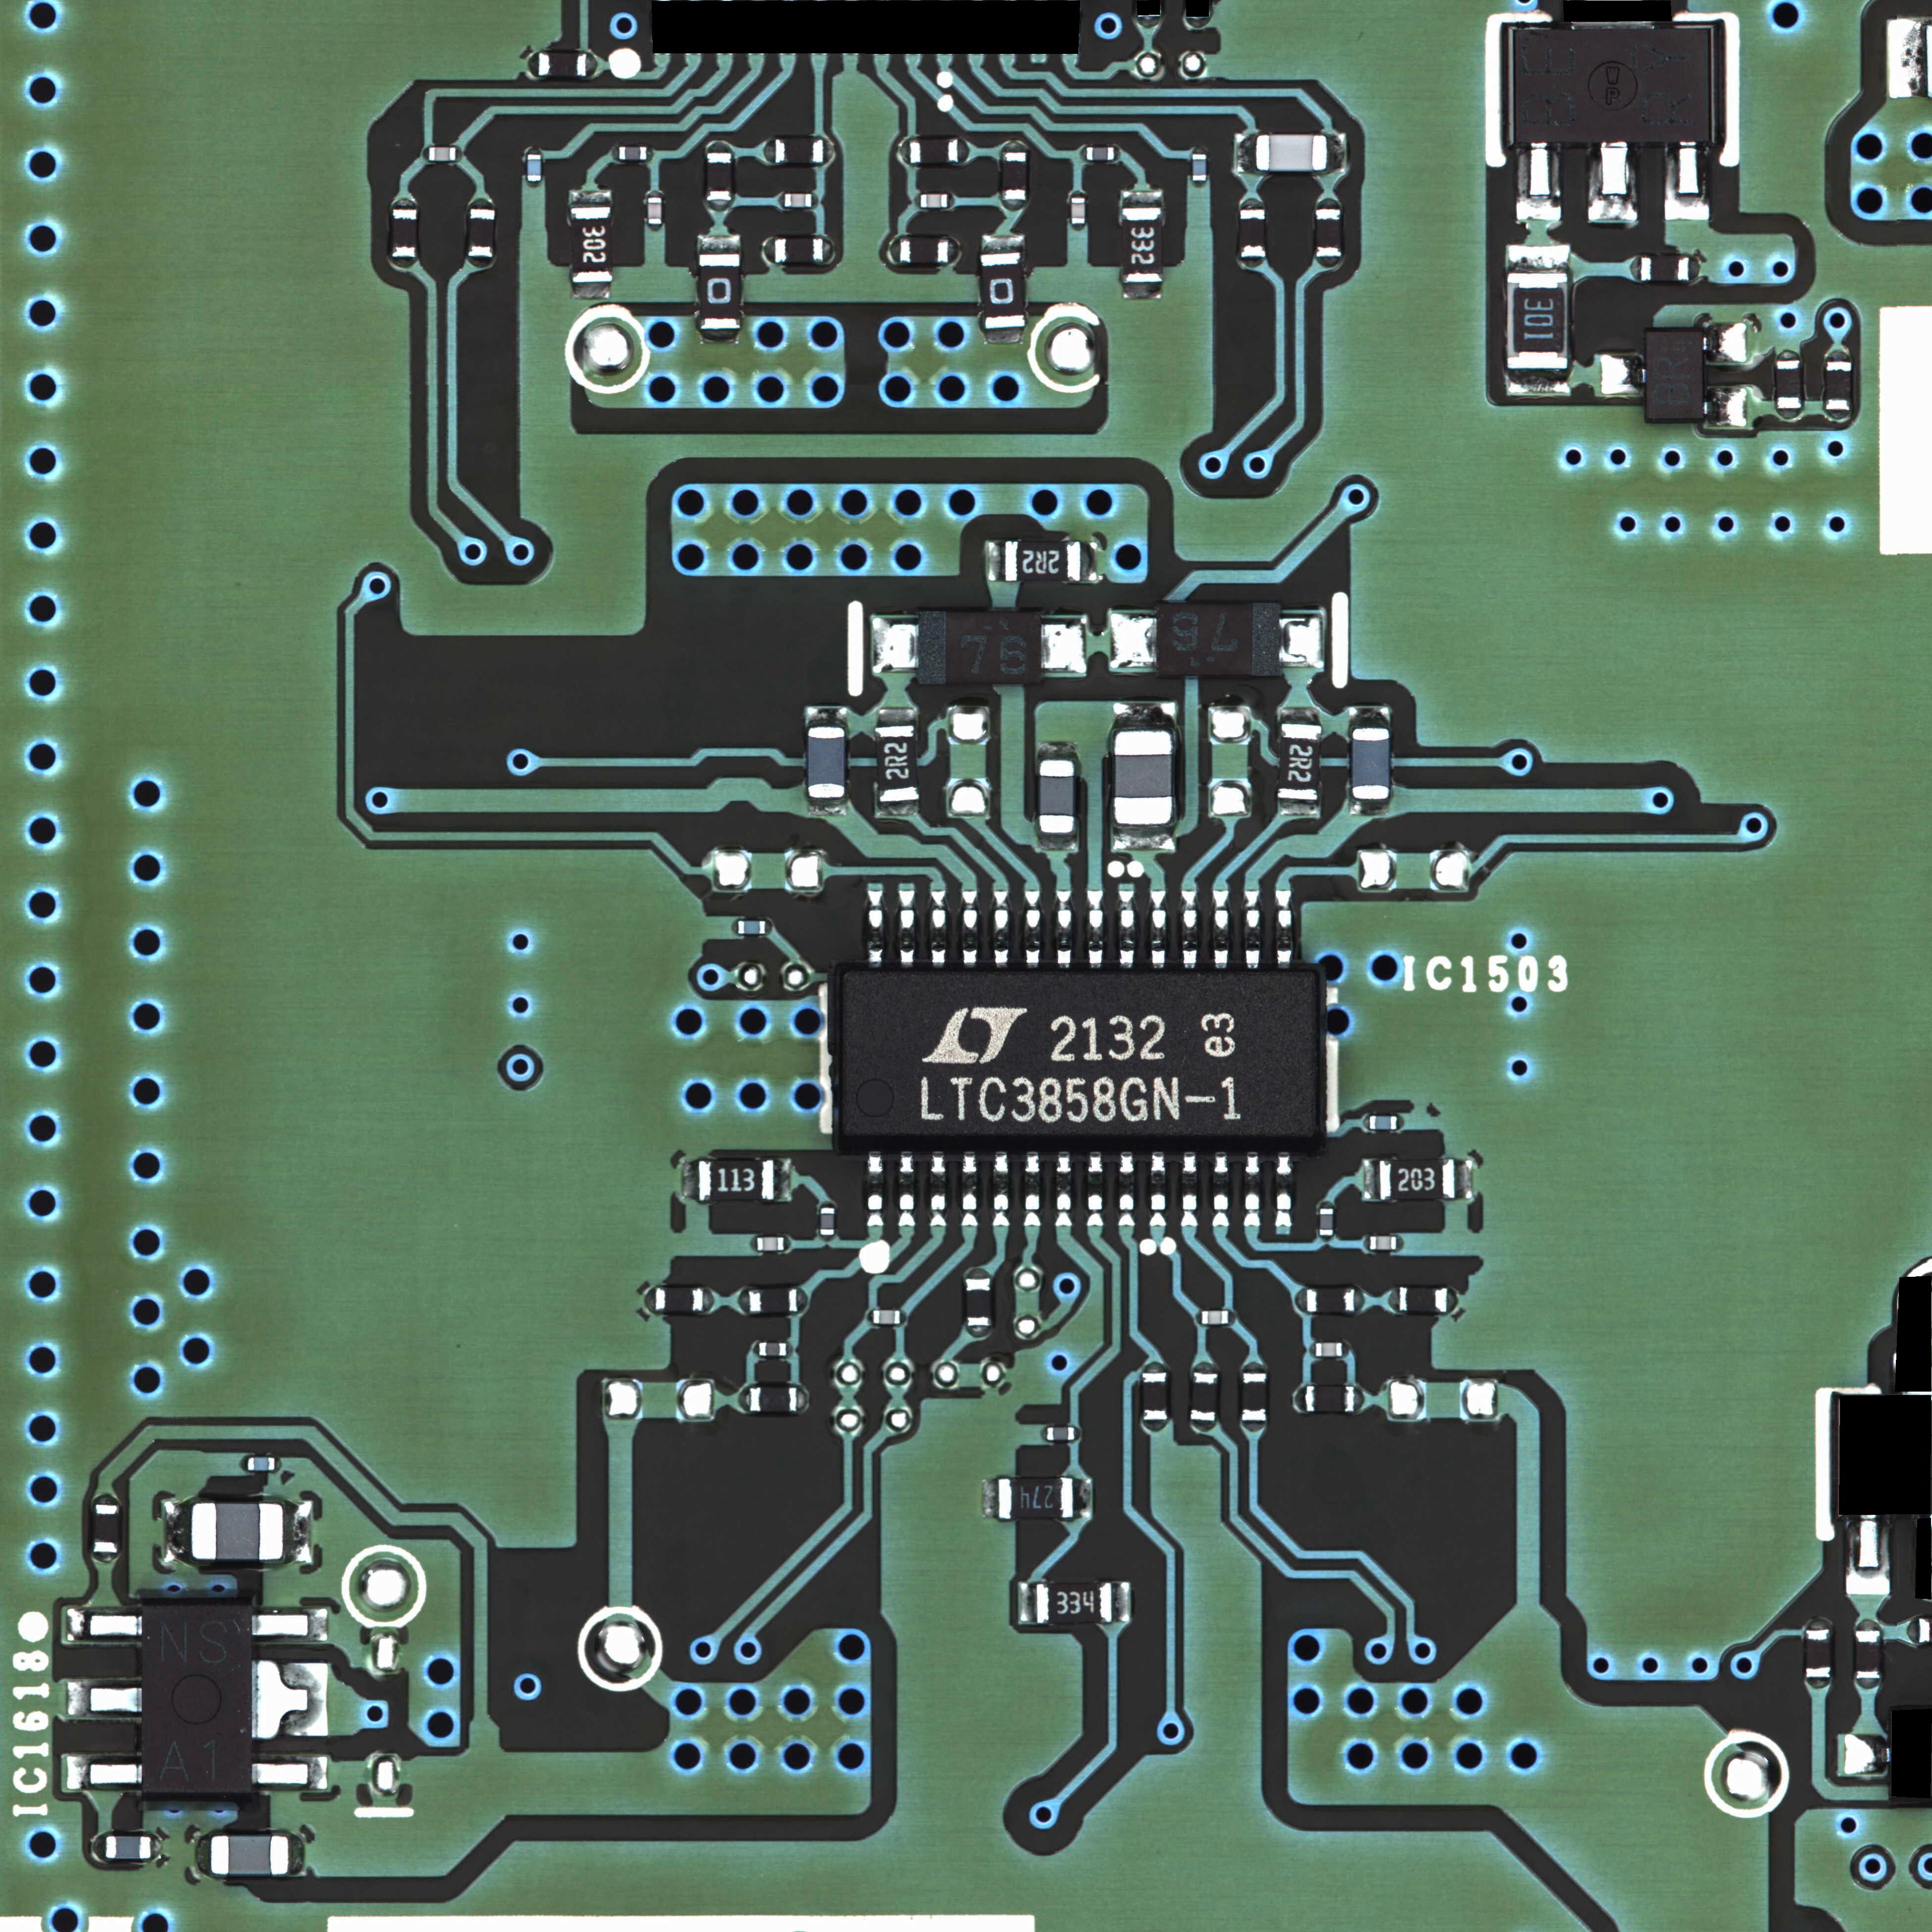Package: (846, 970, 1316, 1152), (1513, 28, 1711, 143), (142, 1606, 251, 1792), (1157, 602, 1281, 676), (918, 610, 1040, 685), (1507, 272, 1568, 368), (1115, 732, 1173, 824), (193, 1504, 283, 1560), (1647, 331, 1702, 419), (1277, 724, 1322, 801), (980, 253, 1024, 329), (876, 725, 920, 801), (570, 207, 612, 281), (1005, 541, 1081, 582), (998, 1479, 1074, 1520), (211, 1836, 288, 1875), (699, 255, 740, 329), (699, 1161, 773, 1201), (1123, 207, 1162, 281), (1037, 1583, 1111, 1622), (1380, 1161, 1454, 1200), (1352, 727, 1389, 800), (1039, 759, 1074, 833), (1256, 134, 1327, 172), (809, 727, 844, 798), (1191, 1371, 1217, 1421), (469, 209, 495, 257), (1238, 209, 1265, 257), (1640, 257, 1690, 281), (1401, 1286, 1447, 1313), (1307, 1385, 1353, 1412), (393, 209, 418, 257), (94, 1504, 119, 1552), (538, 51, 586, 76), (1001, 152, 1026, 200), (909, 140, 957, 165), (775, 140, 823, 165), (966, 1277, 991, 1325), (1242, 1373, 1267, 1421), (1806, 1629, 1831, 1677), (1776, 361, 1801, 409), (1826, 361, 1851, 409), (1316, 209, 1341, 257), (750, 1387, 796, 1412), (1143, 1373, 1168, 1419), (1856, 1631, 1881, 1677), (1307, 1288, 1353, 1313), (775, 239, 823, 262), (655, 1288, 702, 1311), (901, 239, 947, 262), (708, 154, 731, 200), (750, 1290, 796, 1313), (106, 1836, 150, 1858), (428, 147, 456, 161), (1192, 154, 1207, 182), (1086, 147, 1115, 161), (821, 1207, 835, 1235), (527, 154, 541, 180), (619, 145, 646, 159), (648, 198, 662, 225), (1070, 198, 1085, 225), (920, 193, 947, 207), (784, 193, 810, 207), (738, 920, 764, 934), (757, 1237, 784, 1251), (1201, 1309, 1228, 1323), (1369, 1115, 1396, 1129), (1315, 1341, 1341, 1355), (874, 1309, 899, 1323), (248, 1458, 274, 1470), (759, 1343, 786, 1355), (1047, 1428, 1074, 1440), (1320, 1208, 1332, 1235), (1371, 1237, 1396, 1249)
Solder: (253, 1660, 329, 1737), (1589, 147, 1637, 221), (1845, 1518, 1888, 1596), (1516, 149, 1560, 223), (1667, 145, 1709, 221), (1888, 18, 1927, 97), (67, 1681, 142, 1718), (253, 1606, 327, 1642), (253, 1753, 327, 1789), (65, 1755, 142, 1789), (1111, 614, 1157, 669), (872, 617, 918, 672), (67, 1606, 142, 1640), (1042, 617, 1086, 672), (1281, 614, 1325, 667), (1845, 1734, 1890, 1776), (1113, 702, 1175, 732), (1599, 356, 1645, 395), (1507, 244, 1569, 272), (1704, 324, 1746, 364), (1704, 387, 1746, 428), (283, 1502, 311, 1562), (1113, 824, 1175, 851), (165, 1502, 191, 1562), (1506, 370, 1569, 395), (867, 1152, 885, 1226), (961, 1152, 978, 1226), (993, 1152, 1010, 1226), (1024, 1152, 1042, 1226), (1086, 1152, 1104, 1226), (1118, 1154, 1136, 1226), (1150, 1154, 1168, 1226), (1182, 1154, 1200, 1226), (1244, 1154, 1261, 1226), (1276, 1154, 1293, 1226), (867, 890, 883, 970), (899, 890, 915, 970), (962, 890, 978, 970), (931, 890, 947, 970), (994, 890, 1010, 970), (1024, 890, 1040, 970), (1056, 890, 1072, 970), (1088, 890, 1104, 970), (1118, 890, 1134, 970), (1150, 890, 1166, 970), (1182, 890, 1198, 970), (1214, 890, 1230, 970), (1246, 890, 1261, 970), (1276, 890, 1292, 970), (899, 1152, 915, 1226), (931, 1152, 947, 1226), (1056, 1152, 1072, 1226), (1214, 1154, 1230, 1226), (1350, 706, 1391, 727), (697, 235, 741, 255), (982, 234, 1024, 253), (1327, 133, 1346, 173), (807, 708, 847, 727), (1235, 134, 1256, 172), (1074, 1479, 1093, 1518), (980, 1477, 998, 1520), (987, 541, 1005, 582), (1281, 708, 1322, 725), (807, 798, 847, 816), (1113, 1582, 1131, 1622), (1454, 1161, 1472, 1200), (1362, 1161, 1380, 1200), (288, 1835, 306, 1874), (570, 191, 612, 207), (874, 801, 916, 817), (878, 708, 915, 725), (984, 327, 1024, 343), (1123, 191, 1164, 207), (1122, 283, 1162, 299), (1081, 541, 1097, 582), (1350, 800, 1391, 816), (775, 1161, 791, 1201), (571, 283, 610, 299), (1279, 800, 1318, 816), (683, 1159, 699, 1198), (1039, 743, 1076, 759), (1039, 833, 1076, 849), (1021, 1583, 1037, 1621), (699, 329, 740, 343), (196, 1835, 211, 1875), (1191, 1419, 1215, 1433), (92, 1833, 106, 1858), (706, 200, 732, 212), (1240, 257, 1267, 269), (1447, 1286, 1460, 1313), (586, 51, 598, 76), (763, 138, 775, 163), (957, 138, 970, 163), (1806, 1677, 1831, 1690), (966, 1325, 991, 1338), (796, 1288, 809, 1313), (738, 1387, 750, 1412), (798, 1385, 809, 1414), (1185, 18, 1214, 28), (1858, 1677, 1881, 1690), (1806, 1617, 1829, 1629), (1353, 1288, 1366, 1311), (1194, 1361, 1217, 1373), (527, 50, 538, 76), (469, 198, 495, 209), (391, 257, 418, 267), (706, 142, 732, 152), (948, 237, 959, 264), (890, 237, 901, 264), (1238, 198, 1265, 209), (1295, 1286, 1306, 1313), (644, 1286, 655, 1313), (823, 237, 833, 262), (1001, 142, 1026, 152), (1001, 200, 1026, 211), (901, 138, 911, 163), (1316, 198, 1341, 209), (1826, 350, 1851, 361), (1690, 257, 1700, 281), (1629, 257, 1640, 281), (1856, 1619, 1881, 1629), (1389, 1286, 1399, 1311), (1295, 1385, 1306, 1410), (1143, 1361, 1168, 1371), (1143, 1421, 1168, 1431), (704, 1286, 715, 1311), (94, 1552, 119, 1562), (152, 1835, 163, 1859), (1138, 18, 1162, 28), (1778, 409, 1801, 419), (1242, 1361, 1265, 1371), (1244, 1421, 1267, 1431), (738, 1290, 748, 1313), (469, 258, 495, 267), (764, 237, 773, 264), (1826, 410, 1852, 419), (1355, 1385, 1364, 1412), (393, 198, 418, 207), (824, 138, 833, 163), (1316, 258, 1341, 267), (1776, 350, 1799, 359), (966, 1269, 989, 1277), (96, 1495, 117, 1504), (947, 193, 955, 209), (731, 918, 738, 936), (750, 1235, 757, 1253), (648, 145, 655, 161), (812, 193, 819, 209), (913, 193, 920, 209), (1115, 145, 1122, 161), (1079, 145, 1086, 161), (1362, 1115, 1369, 1131), (1362, 1235, 1369, 1251), (1230, 1309, 1237, 1325), (1194, 1309, 1201, 1325), (1074, 1426, 1081, 1442), (784, 1235, 791, 1251), (752, 1341, 759, 1357), (241, 1456, 248, 1472), (1396, 1237, 1405, 1249), (527, 180, 541, 188), (648, 225, 662, 232), (1070, 191, 1085, 198), (1072, 225, 1086, 232), (1192, 147, 1207, 154), (766, 920, 773, 934), (1398, 1116, 1405, 1131), (1318, 1201, 1332, 1208), (1343, 1341, 1350, 1355), (901, 1309, 908, 1323), (867, 1309, 874, 1323), (821, 1235, 835, 1242), (274, 1456, 281, 1470), (527, 147, 540, 154), (821, 1200, 833, 1207), (1191, 182, 1207, 188), (787, 1341, 793, 1357), (612, 145, 617, 159), (456, 147, 462, 161), (423, 147, 428, 161), (778, 193, 784, 207), (1309, 1343, 1315, 1357), (1040, 1426, 1046, 1440), (649, 191, 662, 196), (1318, 1237, 1332, 1240)
